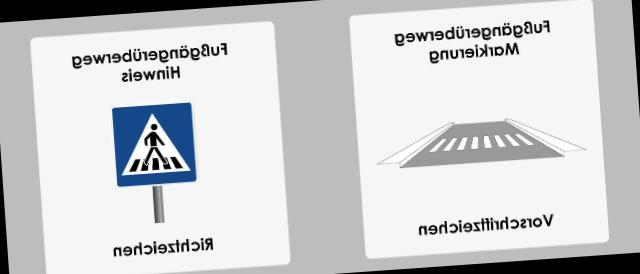crosswalk-sign: (112, 102, 199, 189)
